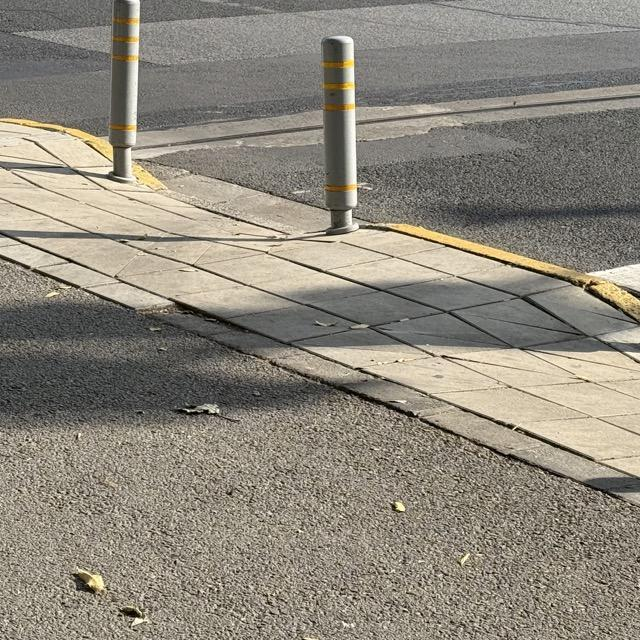curb: (166, 314, 639, 499), (370, 223, 639, 322), (1, 241, 173, 312), (0, 118, 109, 160), (135, 163, 167, 191)
